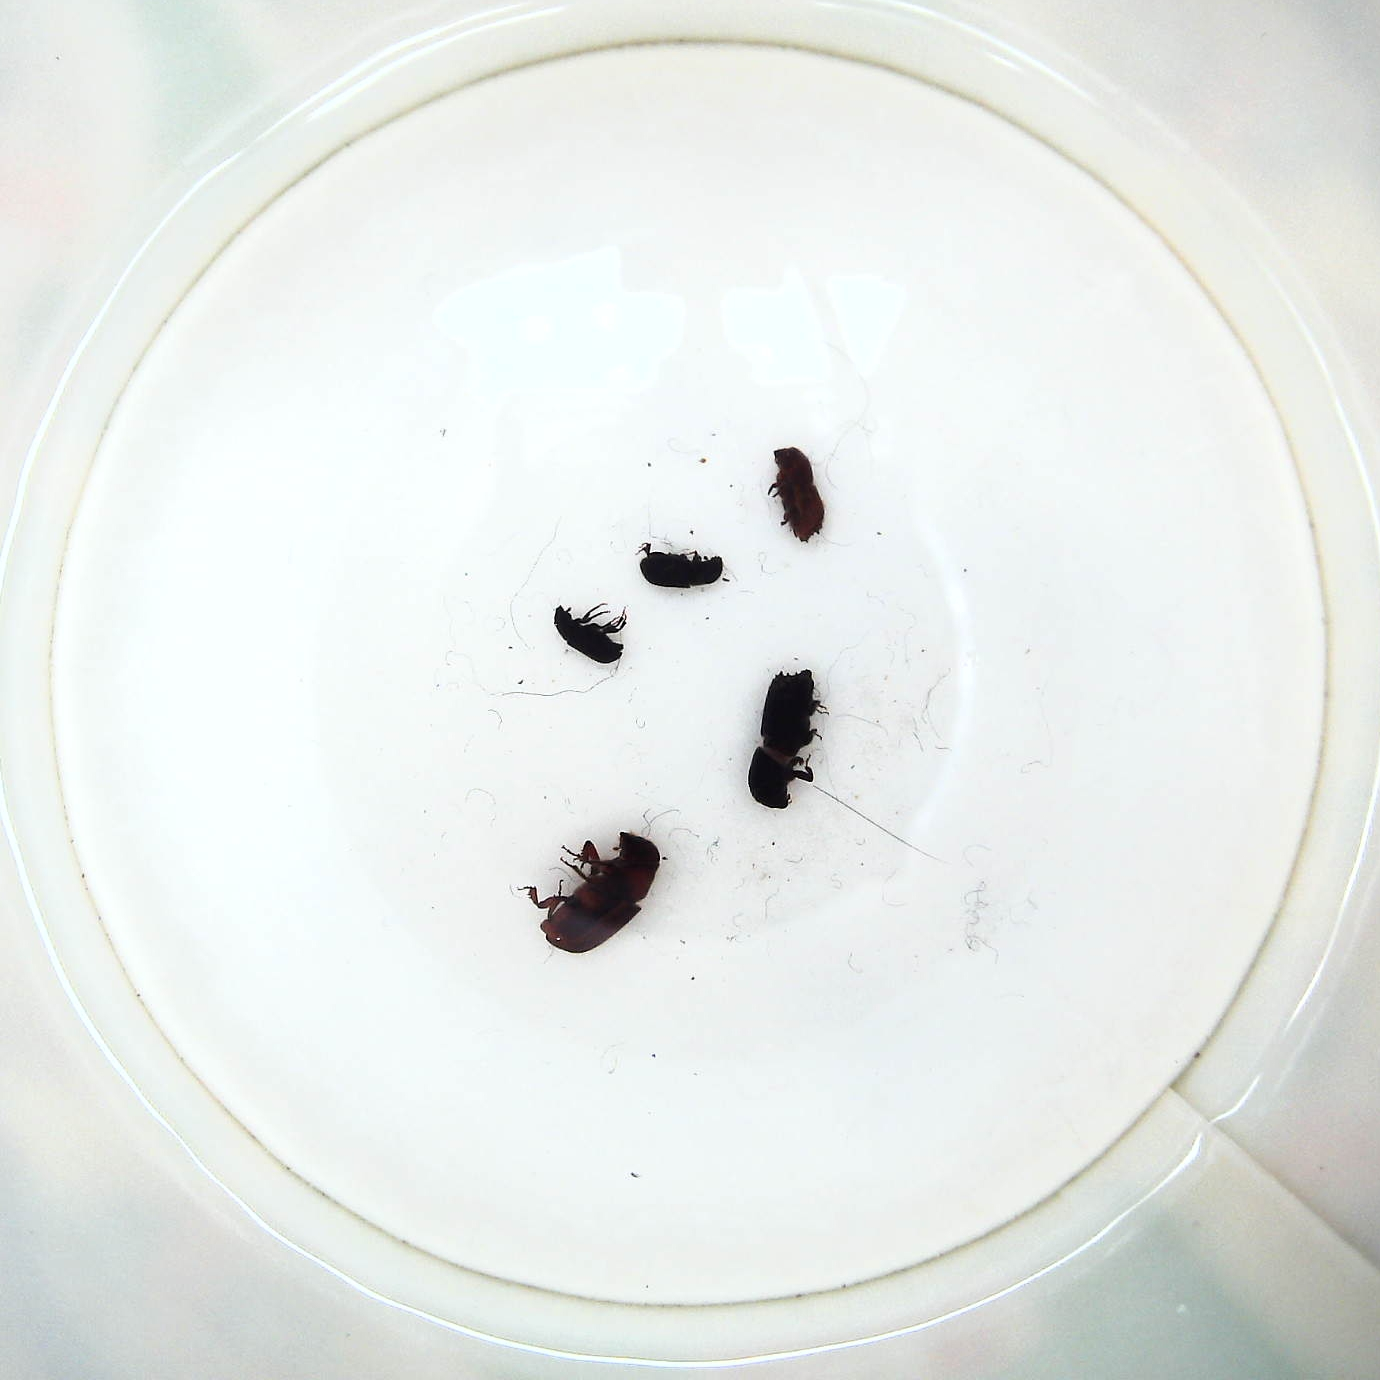Boerner: (746, 669, 829, 814)
Leconte: (524, 826, 663, 958)
armandi: (634, 541, 729, 591)
coleoptera: (538, 596, 636, 666)
linnaeus: (765, 439, 829, 543)
